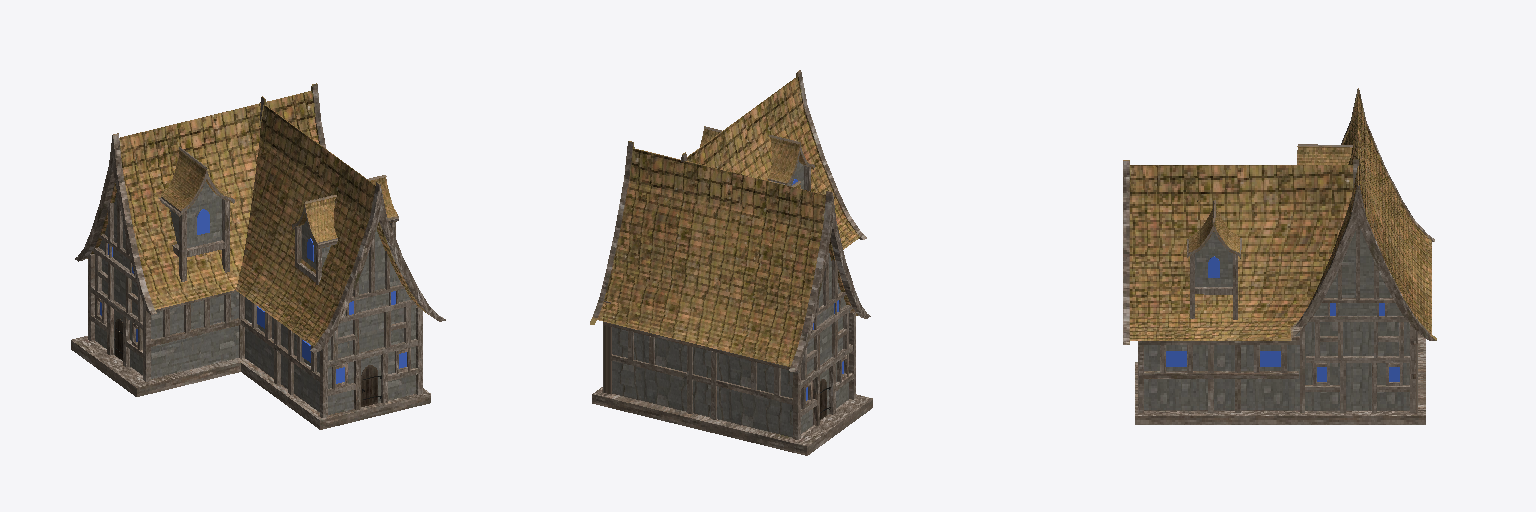
3 renders of one model, left to right at view 1: azimuth 30°, elevation 25°; view 2: azimuth 150°, elevation 25°; view 3: azimuth 270°, elevation 25°, orthographic.
Parts seen in each view (by area): view 1: Plane.031; view 2: Plane.031; view 3: Plane.031.
Part boxes in pixels (bbox=[...]): Plane.031: bbox=[71, 83, 445, 429]; Plane.031: bbox=[590, 70, 872, 455]; Plane.031: bbox=[1123, 88, 1436, 424].
Bounding box in the file's own units: 6.07 × 6.16 × 7.33.
1 materials, 1 textured.